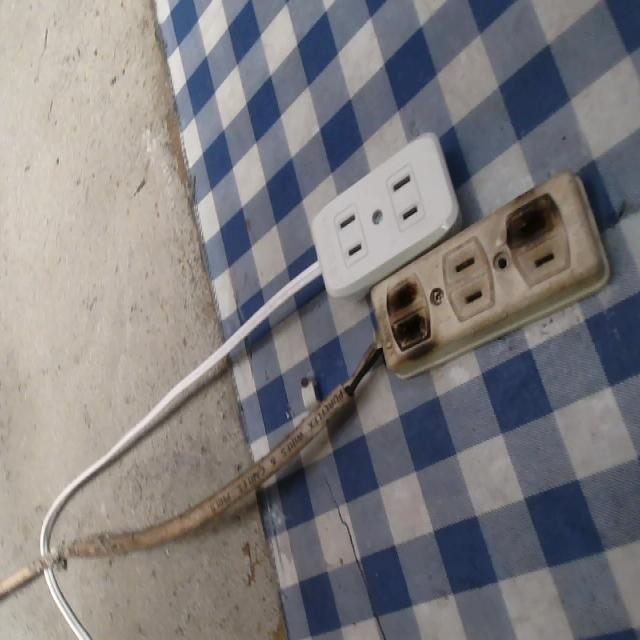-: (384, 268, 440, 367), (495, 187, 561, 244)
